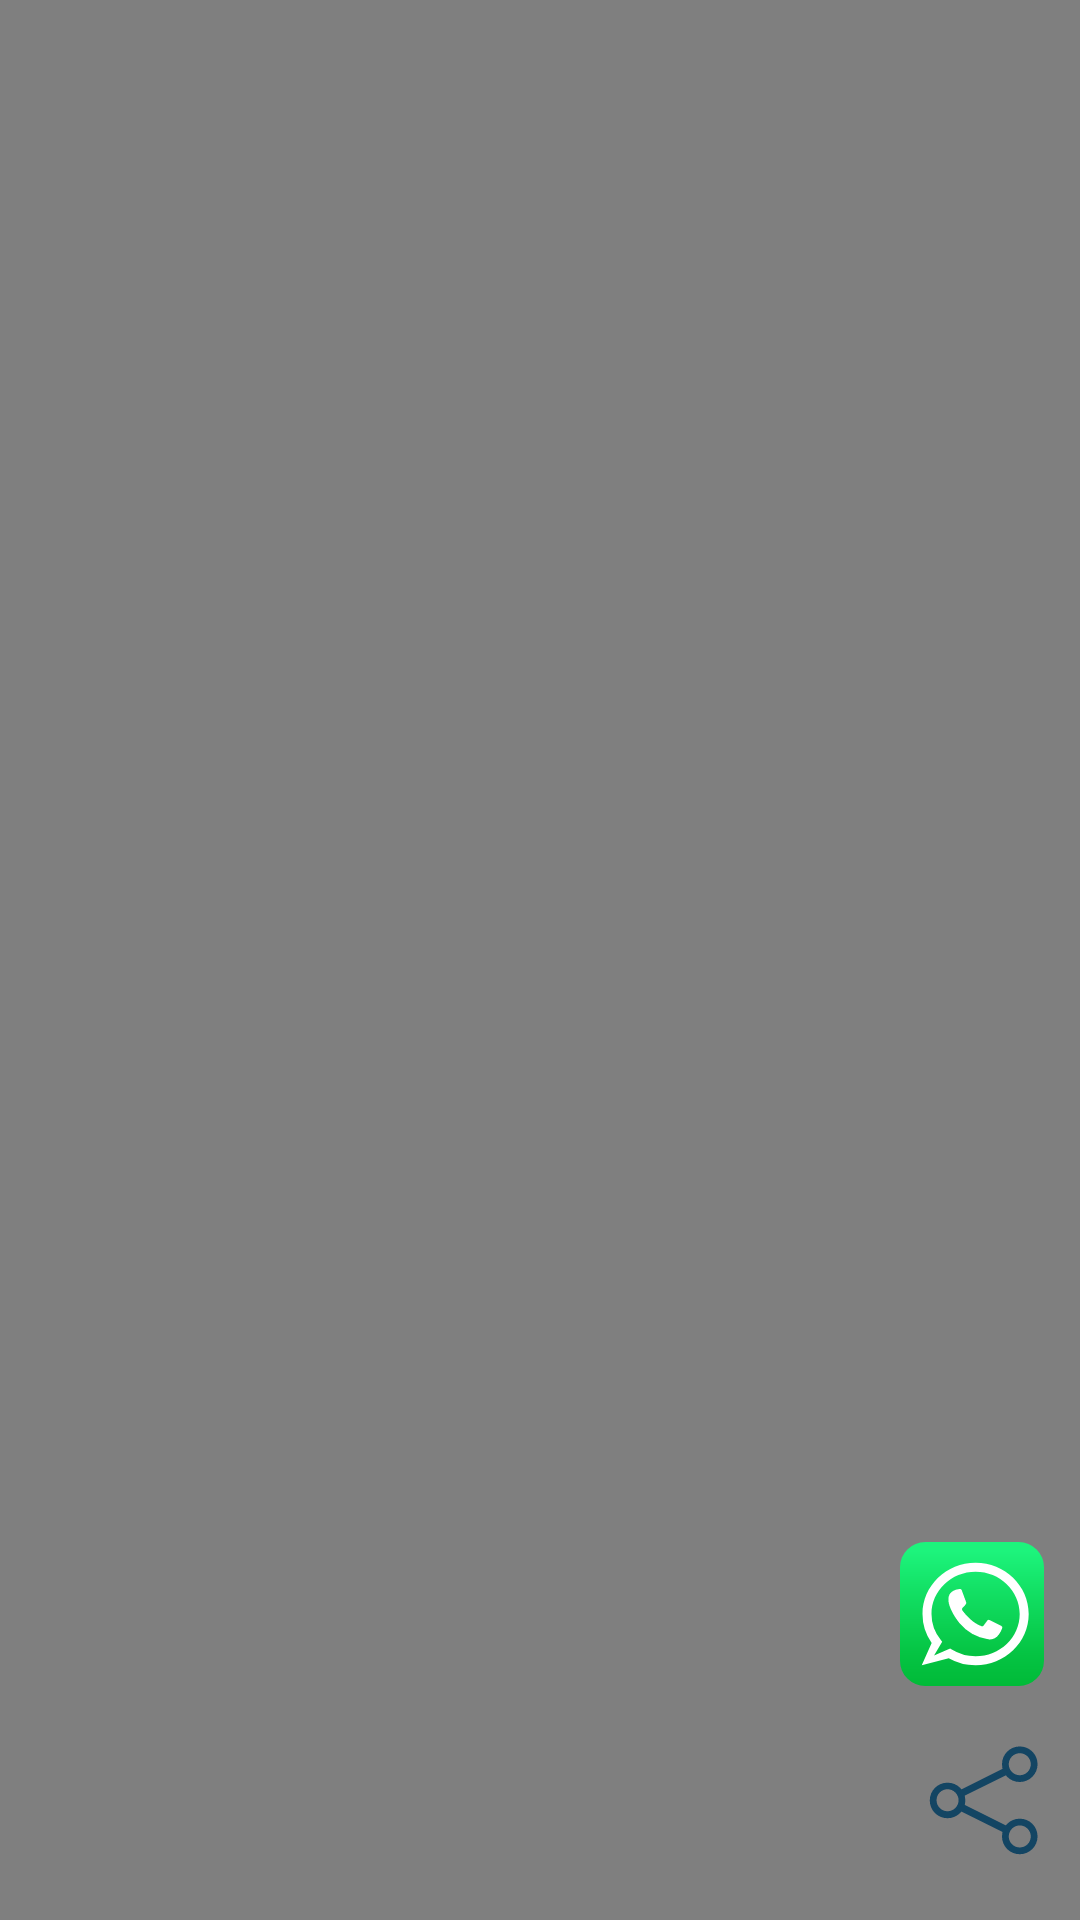

Icon bounding boxes for this 1080w x 1920h phone screenshot, format Rect(x1, y1, x2, y2):
share: Rect(929, 1746, 1038, 1855)
